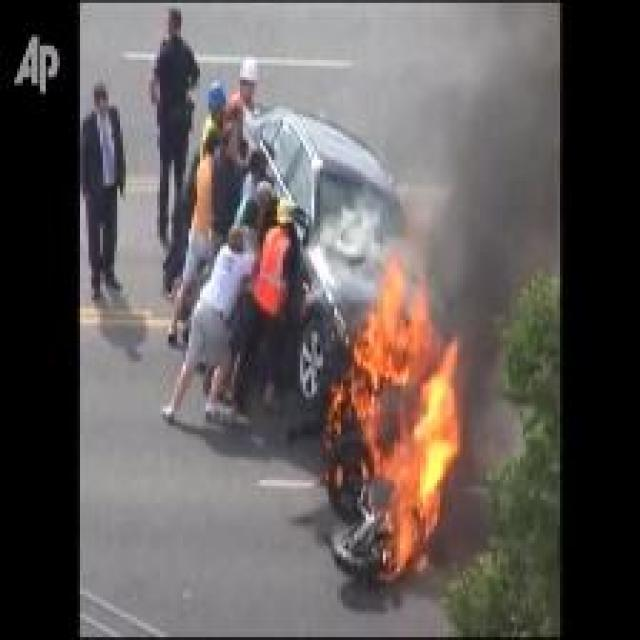Fire: (329, 260, 457, 583)
